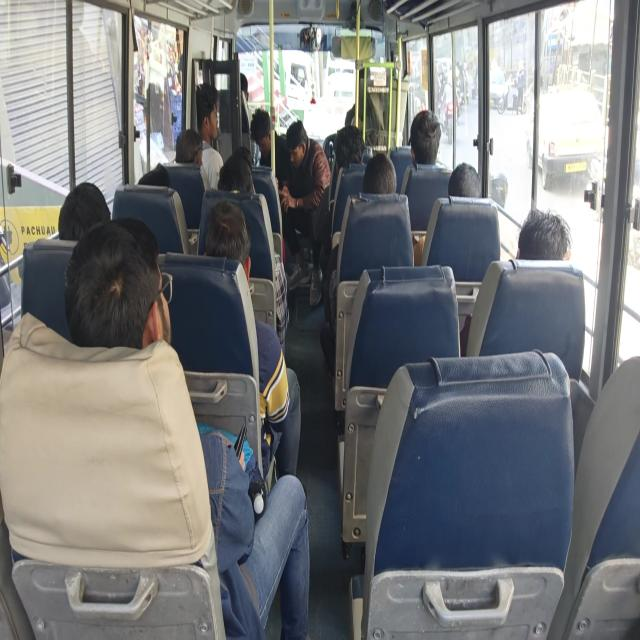person: (64, 217, 310, 638), (202, 199, 302, 479), (320, 151, 414, 375), (459, 207, 572, 355), (250, 108, 310, 288), (309, 124, 365, 306), (278, 119, 332, 305), (412, 162, 482, 265), (398, 109, 446, 193), (250, 108, 291, 190), (195, 82, 224, 190), (58, 180, 110, 240), (516, 208, 572, 260), (172, 128, 210, 191), (408, 109, 442, 165), (217, 152, 255, 194), (362, 151, 396, 194), (334, 124, 364, 172), (448, 162, 481, 198), (240, 72, 250, 133)
